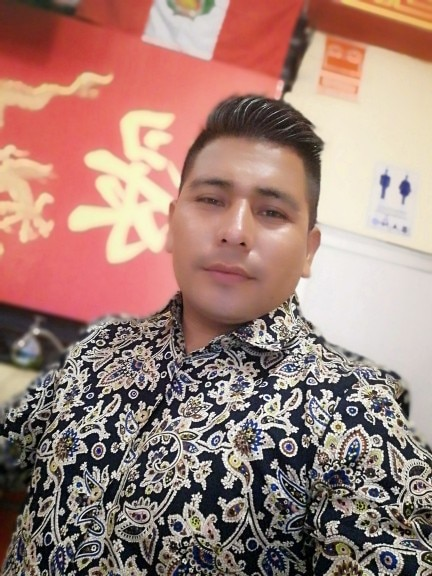shirts: (30, 309, 432, 571)
